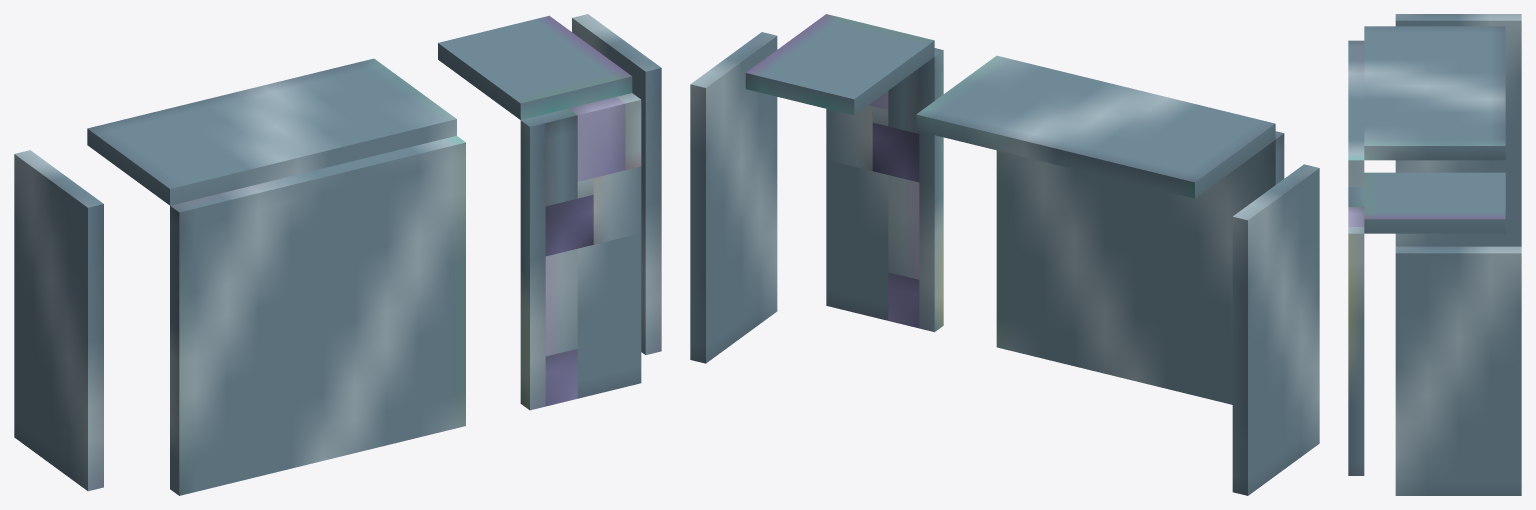
The model's file is Machine_Dispenser_Glass_A_00.fbx.
3 views of the same model, side by side, from view 1: azimuth 30°, elevation 25°; view 2: azimuth 150°, elevation 25°; view 3: azimuth 270°, elevation 25° (orthographic). The views are drawn at different scales.
Parts seen in each view (by area): view 1: Machine_Dispenser_Glass_A_00; view 2: Machine_Dispenser_Glass_A_00; view 3: Machine_Dispenser_Glass_A_00.
Part boxes in pixels (x1,y1,x2,y2): Machine_Dispenser_Glass_A_00: [14, 14, 661, 495]; Machine_Dispenser_Glass_A_00: [690, 14, 1319, 495]; Machine_Dispenser_Glass_A_00: [1348, 14, 1521, 495].
Bounding box in the file's own units: 180 × 90 × 55.
